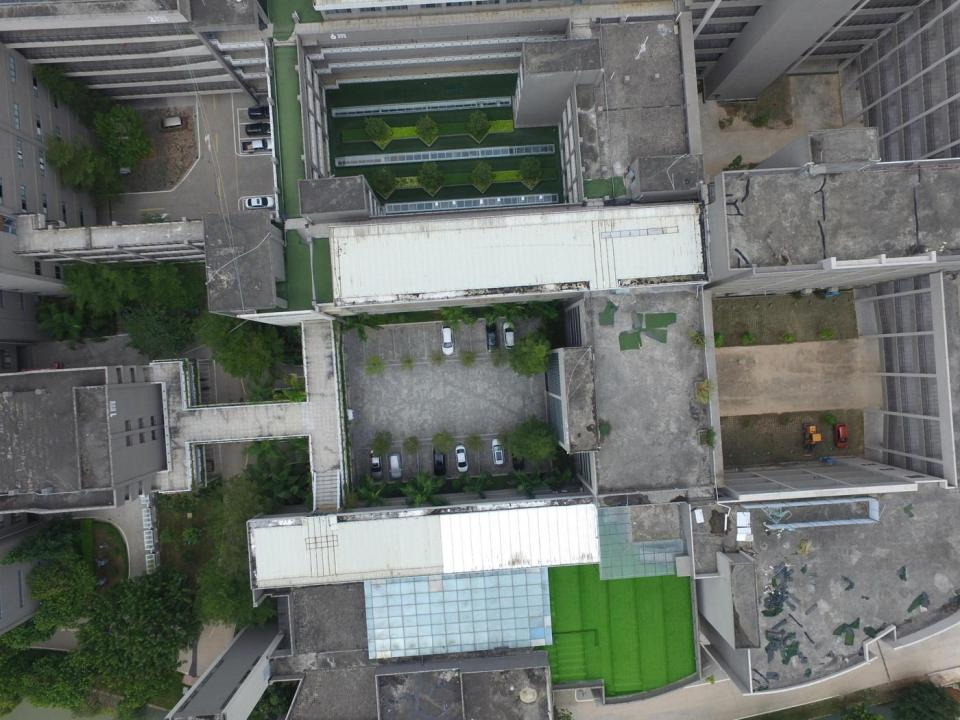car: (367, 446, 384, 480), (440, 322, 456, 356), (432, 444, 447, 478), (500, 321, 518, 349), (485, 322, 500, 353), (453, 443, 469, 472), (491, 437, 506, 466), (243, 121, 274, 135), (243, 196, 276, 209), (246, 105, 275, 119), (388, 453, 402, 479), (511, 444, 524, 471), (834, 422, 847, 448)
truck: (242, 137, 274, 154)
van: (156, 114, 185, 132)
